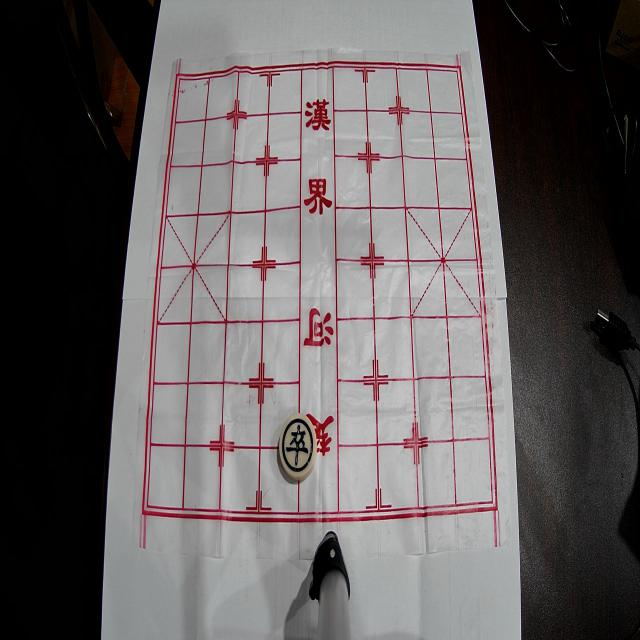black-soldier: (279, 412, 317, 480)
